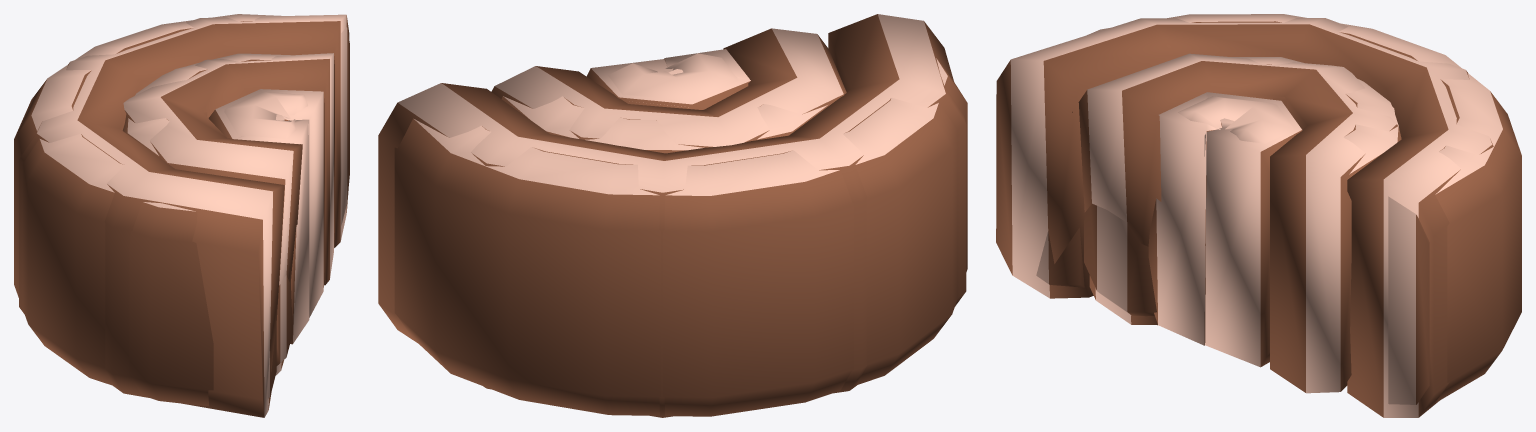
Rendered from SwissRoll_01.fbx.
3 views of the same model, side by side, from view 1: azimuth 30°, elevation 25°; view 2: azimuth 150°, elevation 25°; view 3: azimuth 270°, elevation 25° (orthographic). The views are drawn at different scales.
Parts seen in each view (by area): view 1: Swissroll_01_LOD2, Swissroll_01_LOD1; view 2: Swissroll_01_LOD1, Swissroll_01_LOD2; view 3: Swissroll_01_LOD2, Swissroll_01_LOD1.
Boxes of the visible parts, x1=… form: Swissroll_01_LOD2: x1=19, y1=14, x2=349, y2=417; Swissroll_01_LOD1: x1=14, y1=14, x2=349, y2=406; Swissroll_01_LOD1: x1=394, y1=53, x2=967, y2=416; Swissroll_01_LOD2: x1=378, y1=14, x2=966, y2=417; Swissroll_01_LOD2: x1=996, y1=18, x2=1493, y2=417; Swissroll_01_LOD1: x1=1036, y1=14, x2=1521, y2=404.
Bounding box in the file's own units: 392 × 213 × 425.
